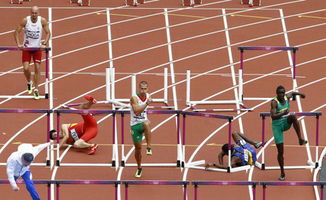fall: (210, 127, 265, 171)
